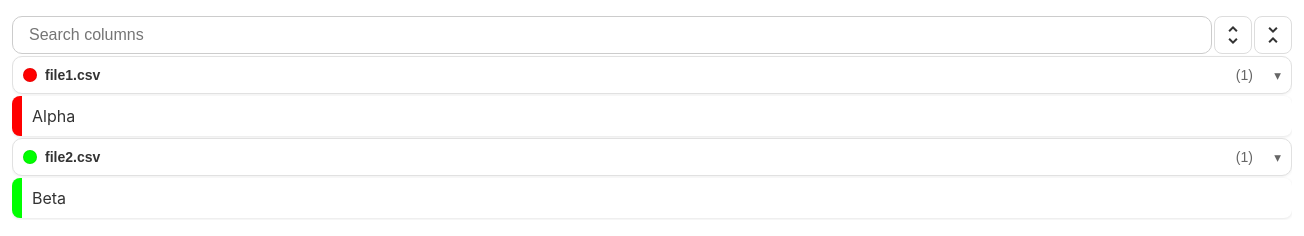
Test: <ColumnSearchList /> › expands all groups when openAll is clicked
Note: Collapse all first
Click the button named "collapse all column groups". click: click(1273, 35)
box: x1=1254 y1=16 x2=1292 y2=54
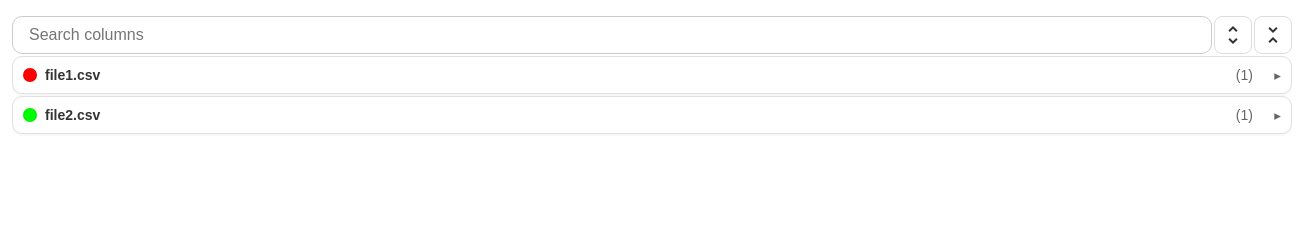
Result: the list item "Alpha" is gone
Result: the list item "Beta" is gone
Note: Expand all
Click the button named "expand all column groups". click: click(1233, 35)
box: x1=1214 y1=16 x2=1252 y2=54
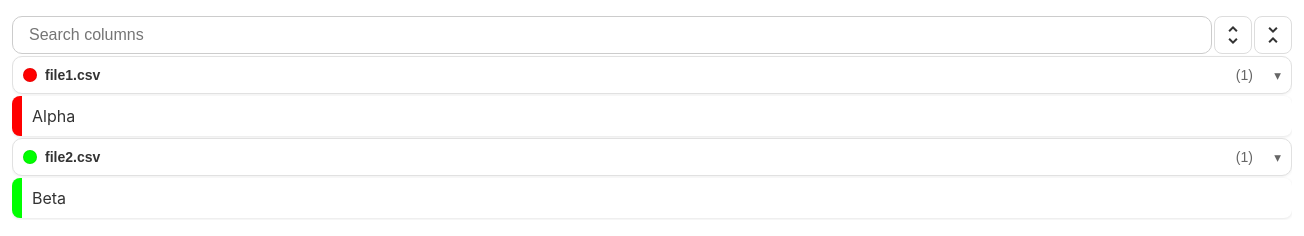
Result: the list item "Alpha" is shown at x1=12 y1=96 x2=1292 y2=136
Result: the list item "Beta" is shown at x1=12 y1=178 x2=1292 y2=218
